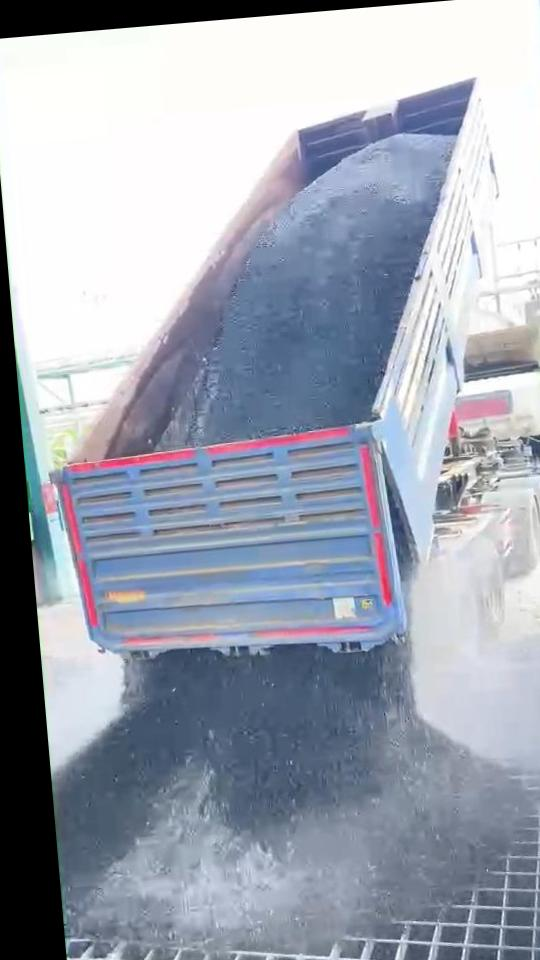gravel: (54, 650, 530, 948), (165, 134, 454, 445)
